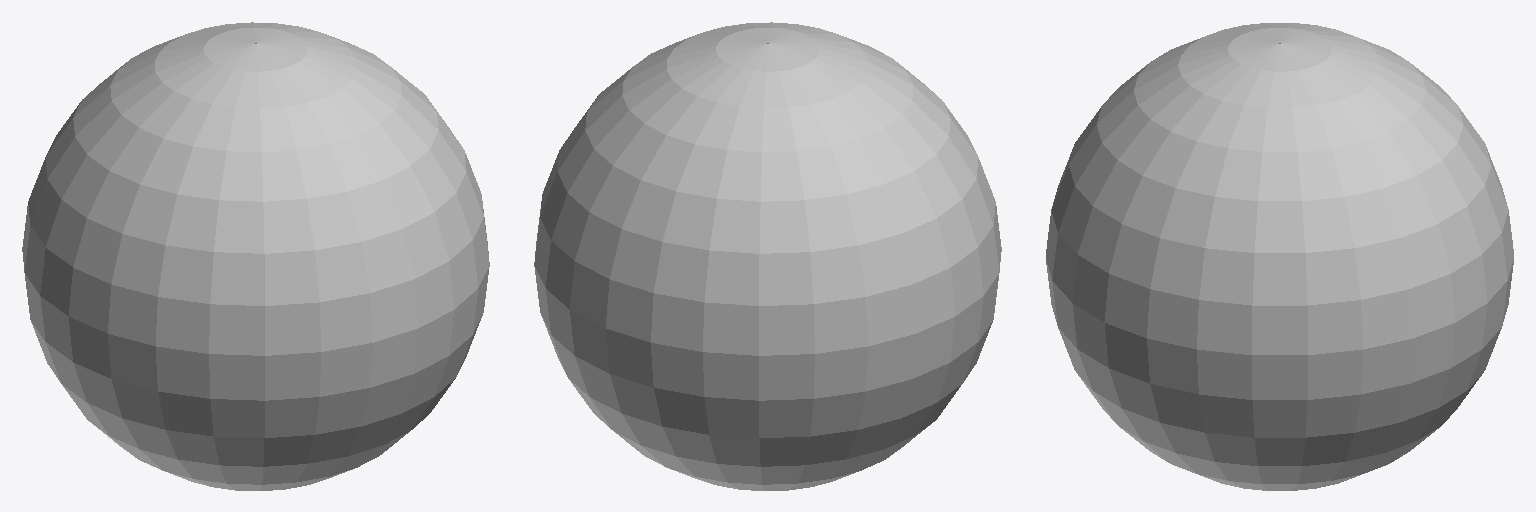
The model's file is jupiter_01.obj.
The picture shows the model from 3 angles: view 1: azimuth 30°, elevation 25°; view 2: azimuth 150°, elevation 25°; view 3: azimuth 270°, elevation 25°; orthographic projection.
Parts seen in each view (by area): view 1: Jupiter_Model; view 2: Jupiter_Model; view 3: Jupiter_Model.
Part boxes in pixels (left/top/right/bottom): Jupiter_Model: left=22, top=22, right=489, bottom=490; Jupiter_Model: left=534, top=22, right=1001, bottom=490; Jupiter_Model: left=1046, top=23, right=1513, bottom=490.
Size of the model in its own units: 1.99 by 2 by 2.